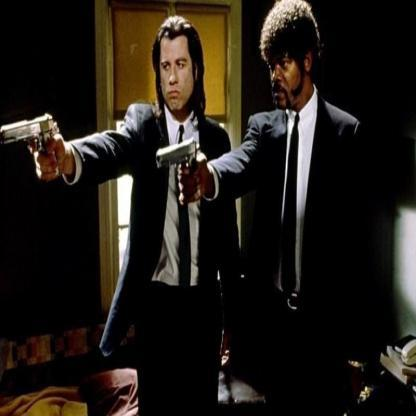Pistol: (0, 107, 68, 192), (152, 131, 211, 216)
